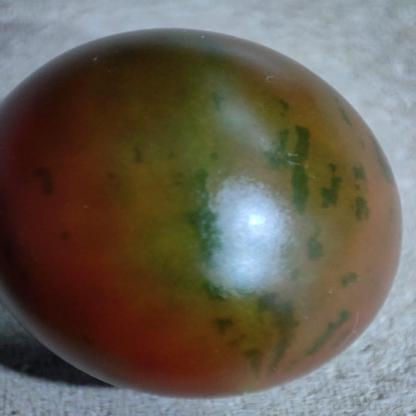T_F_R: (1, 29, 402, 398)
